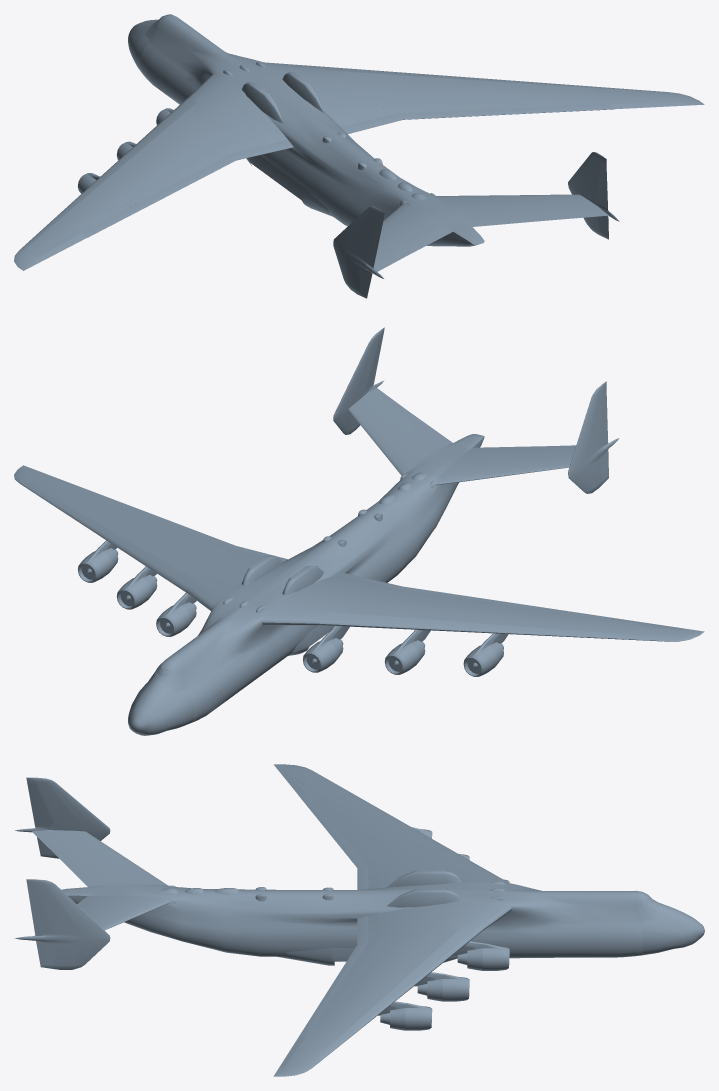
The picture shows the model from 3 angles, top to bottom: view 1: azimuth 30°, elevation 25°; view 2: azimuth 150°, elevation 25°; view 3: azimuth 270°, elevation 25°; orthographic projection. The views are drawn at different scales.
Size of the model in its own units: 87.92 by 16.97 by 82.18.
